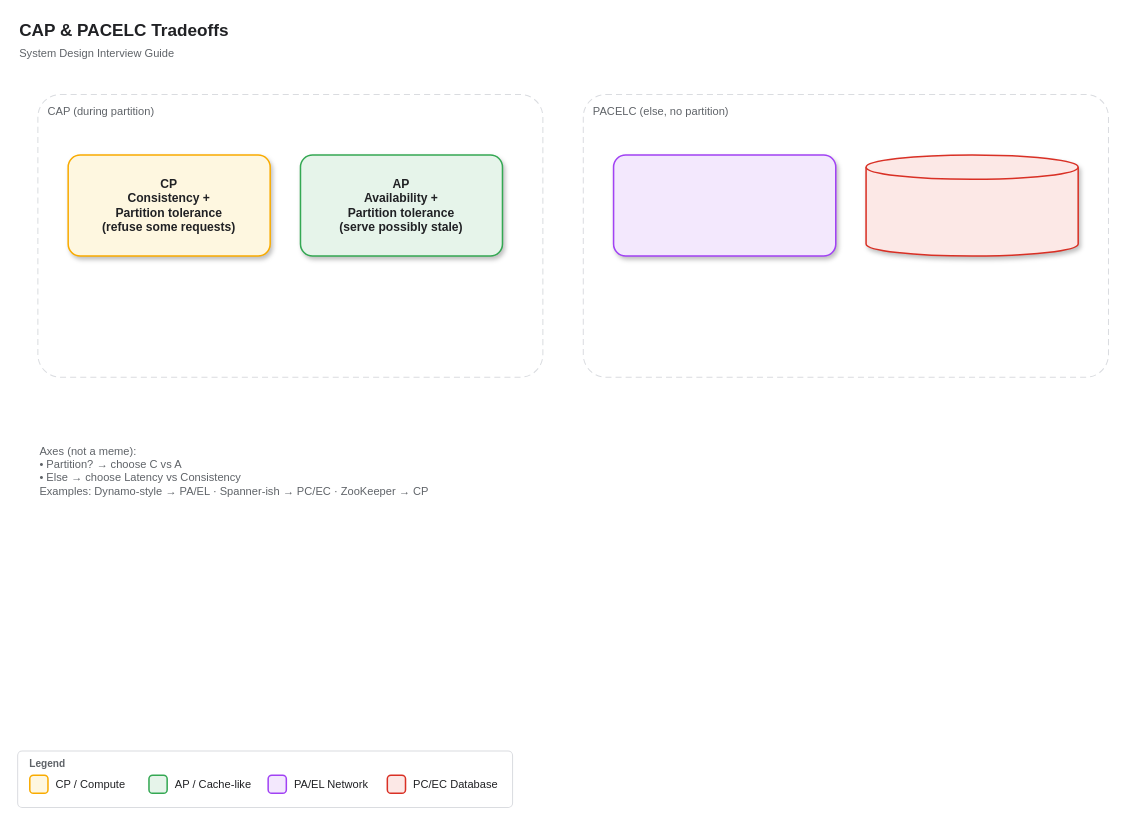
Some shapes in this 1126 by 825 pixel diagram are drawn without their labels. The shapes that lost their labels are listed below. From the top down, each one's centre as x and y in pixels, then its label:
the point at 725,206: PA/EL Prefer Availability & low Latency (eventual)
the point at 973,206: PC/EC Prefer Consistency even if higher latency
